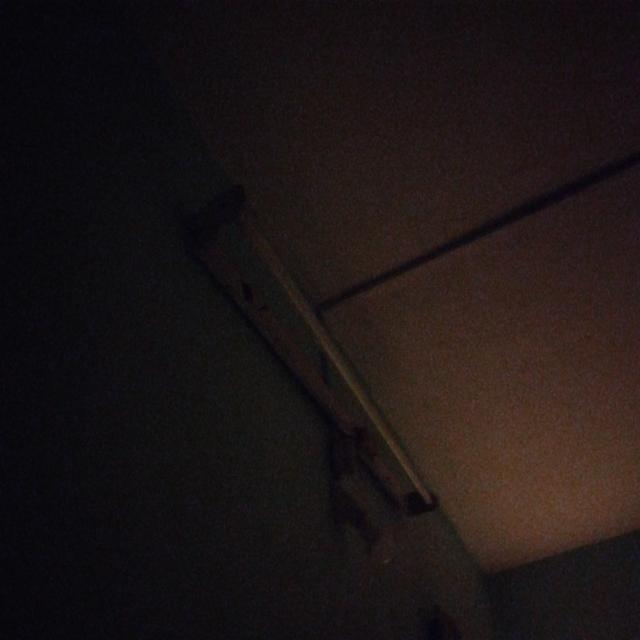tubelight_off: (177, 186, 443, 517)
